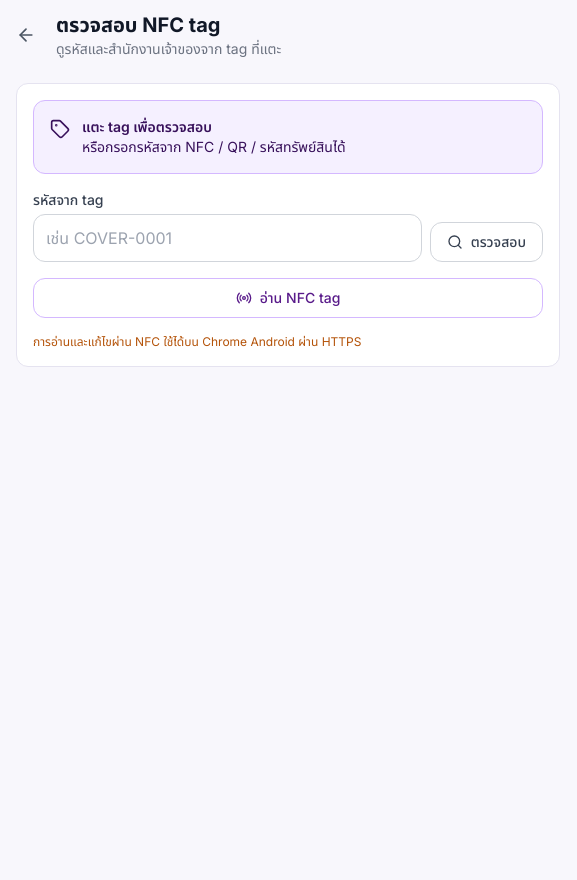
Scenario: CheckTagPage — inspect and edit NFC tag (Flow 5) › disables the rewrite action when the browser cannot write NFC
Type "TAG-OLD" into the field labelled "รหัสจาก tag" at (227, 238), box [33, 214, 422, 262]
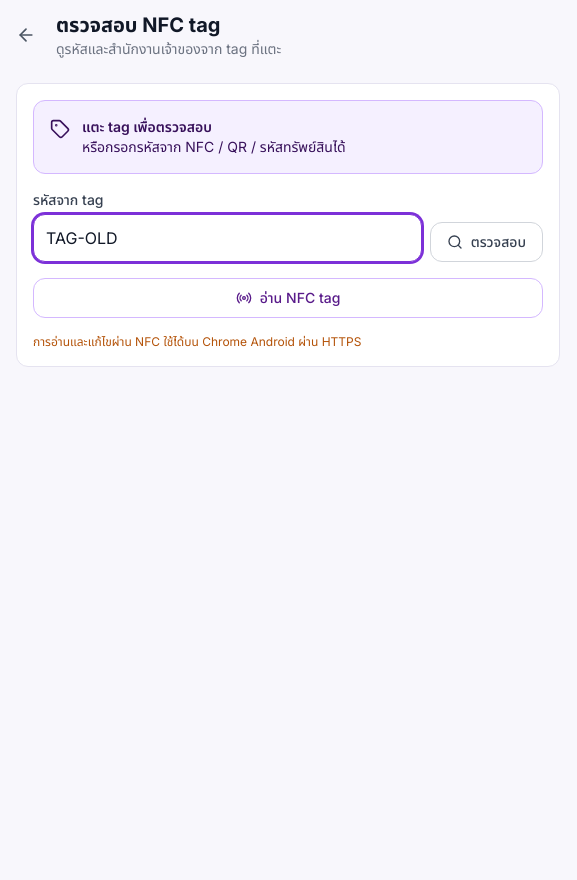
Click the button "ตรวจสอบ" at (486, 242), box [430, 222, 543, 262]
(page scrolled)
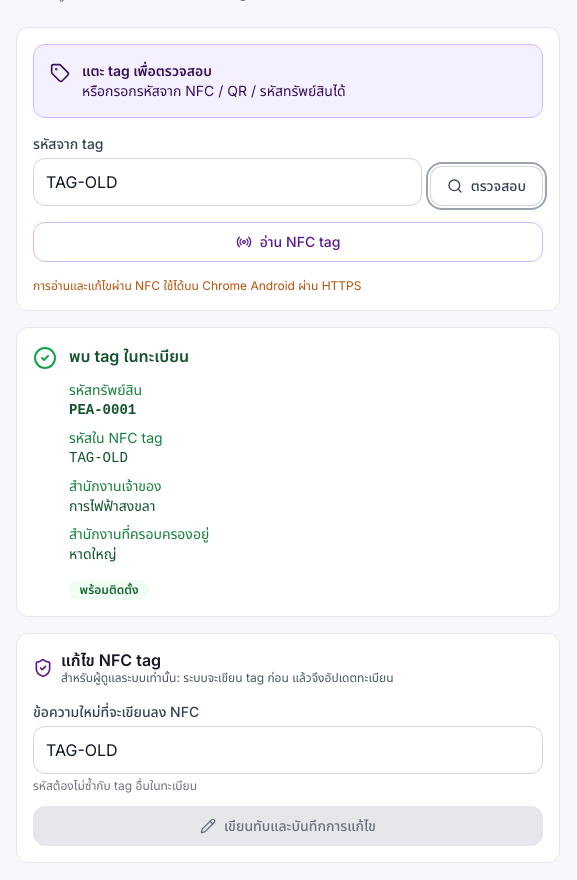
Check: the button "เขียนทับและบันทึกการแก้ไข" is disabled, box [33, 806, 543, 846]
